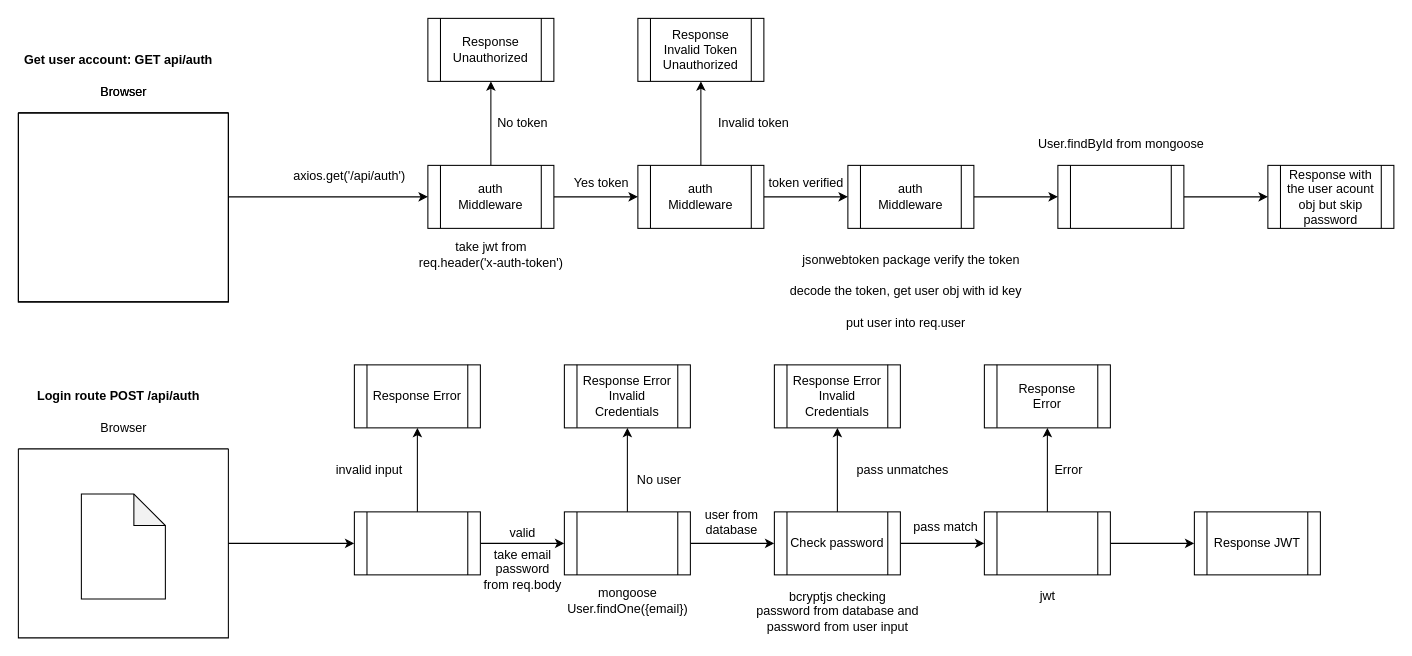
Image size: 1412x656. Some labels were removed from this diagram. The box of each missing label's shape, as (x1, y1, x2, y2) in pixels:
Check if user exists in database: (563, 511, 690, 575)
find the user account by req.user.id: (1057, 164, 1184, 228)
Form: email password: (80, 493, 165, 599)
sign a JWT with user Id: (983, 511, 1110, 575)
validate input: (353, 511, 480, 575)
